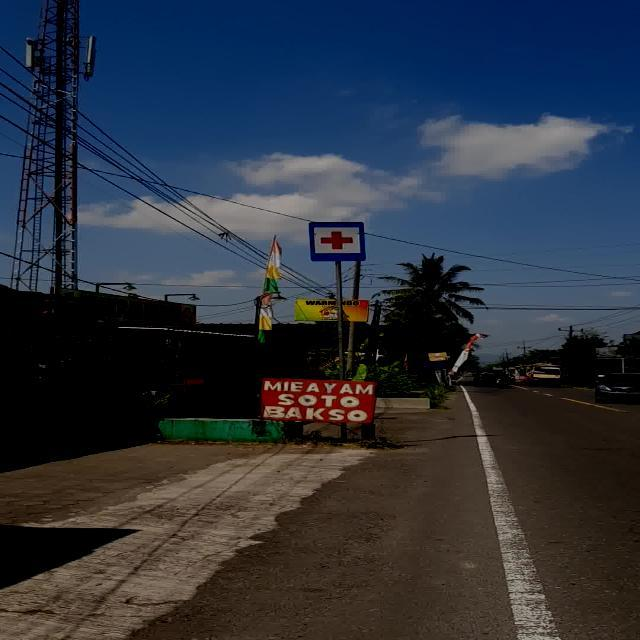Balai Pertolongan Pertama: (309, 222, 366, 262)
